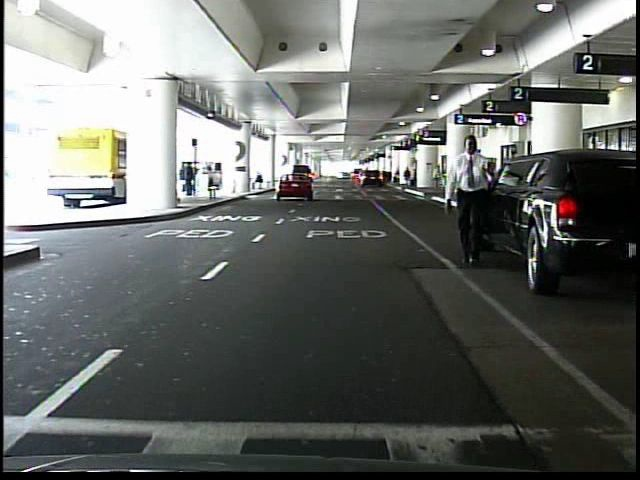person: (454, 129, 503, 277), (184, 160, 198, 197), (431, 164, 444, 191), (404, 166, 413, 188)
